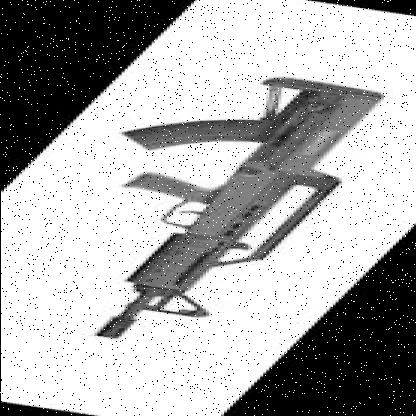rifle: (0, 57, 416, 346)
